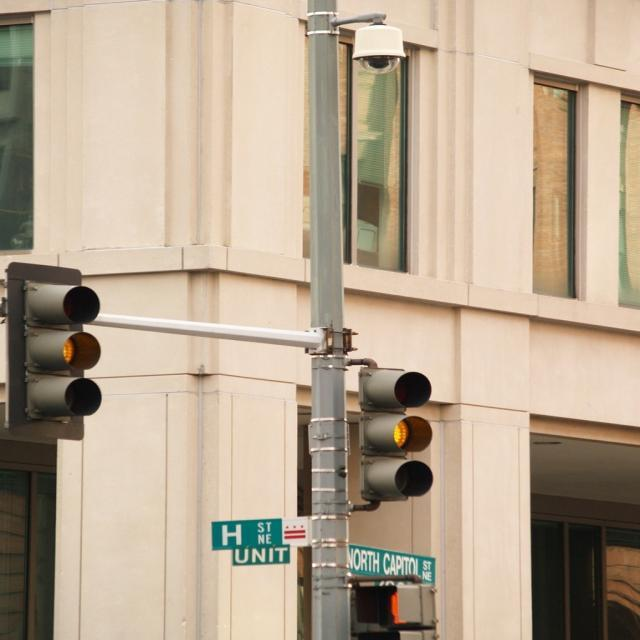traffic light: (6, 261, 101, 440), (366, 369, 440, 512)
